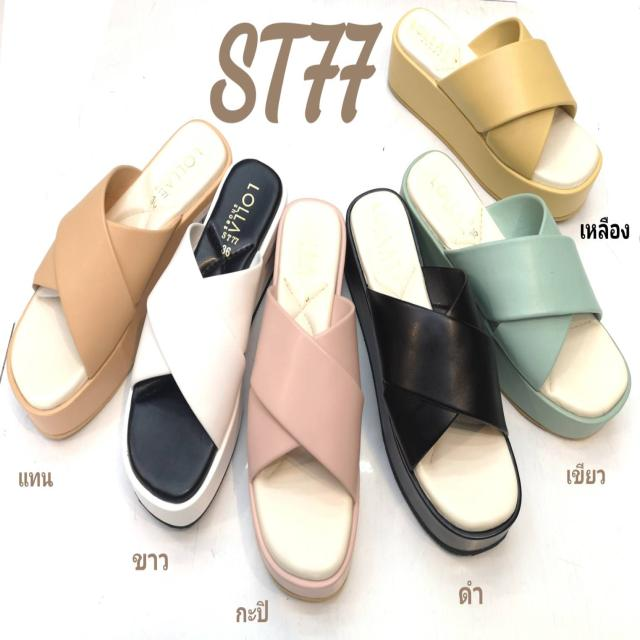black: (350, 192, 519, 546)
green: (413, 151, 626, 435)
kapi: (255, 202, 361, 600)
tan: (12, 121, 236, 433)
white: (121, 158, 274, 523)
yellow: (387, 8, 601, 218)
